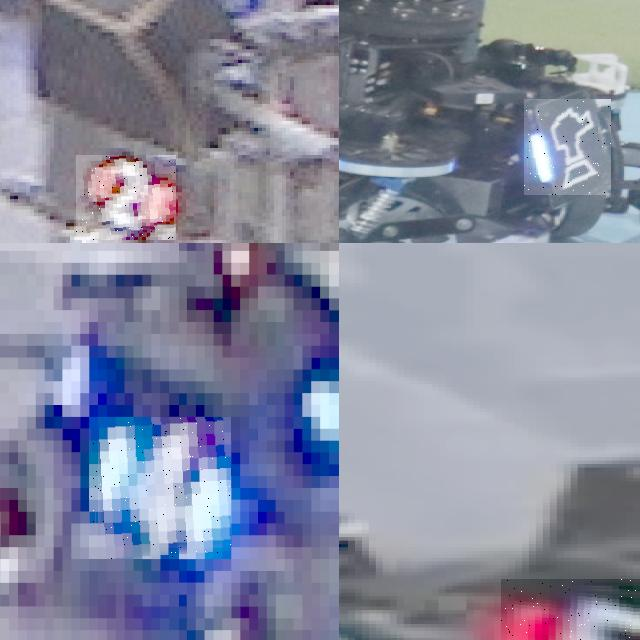B4: (89, 417, 231, 559)
Bs: (524, 99, 611, 195)
R2: (76, 155, 176, 240)
R5: (501, 578, 640, 640)
